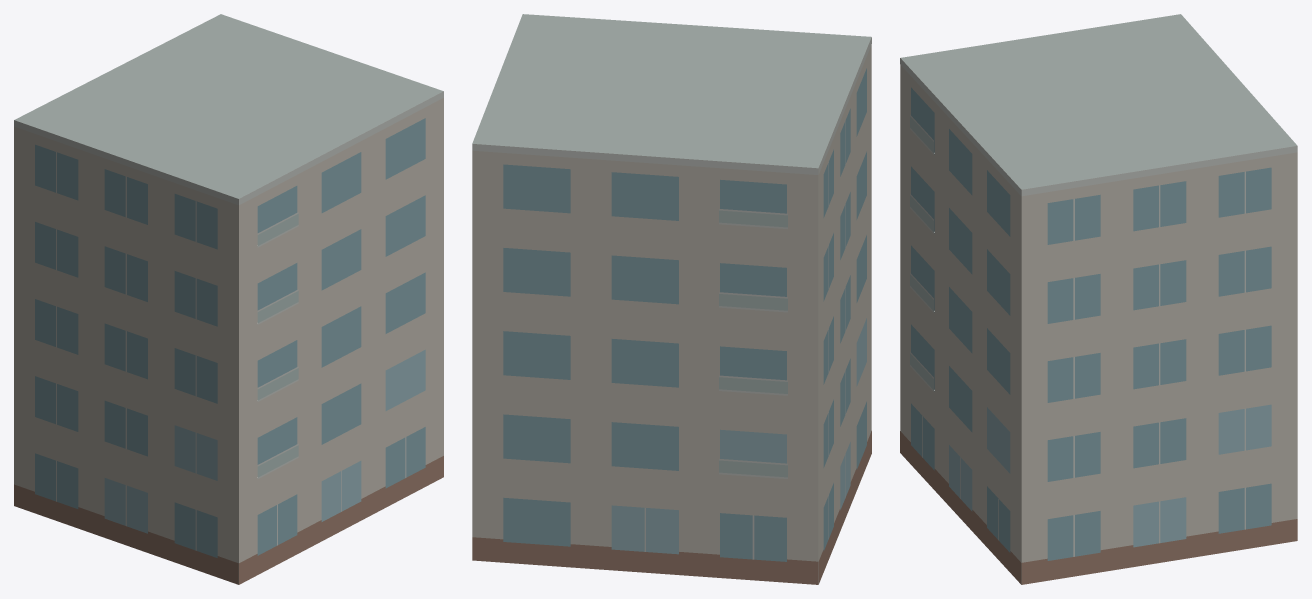
File: survey-upis-32862423.glb
3 views of the same model, side by side, from view 1: azimuth 30°, elevation 25°; view 2: azimuth 150°, elevation 25°; view 3: azimuth 270°, elevation 25° (orthographic). The views are drawn at different scales.
Visible parts, largest first — view 1: survey-upis-32862423.tmp; view 2: survey-upis-32862423.tmp; view 3: survey-upis-32862423.tmp.
Part boxes in pixels (box(x1,y1,x2,y2)): survey-upis-32862423.tmp: box(14, 14, 443, 584); survey-upis-32862423.tmp: box(472, 14, 871, 584); survey-upis-32862423.tmp: box(900, 14, 1297, 584).
Size of the model in its own units: 14.09 by 14.75 by 13.46.
